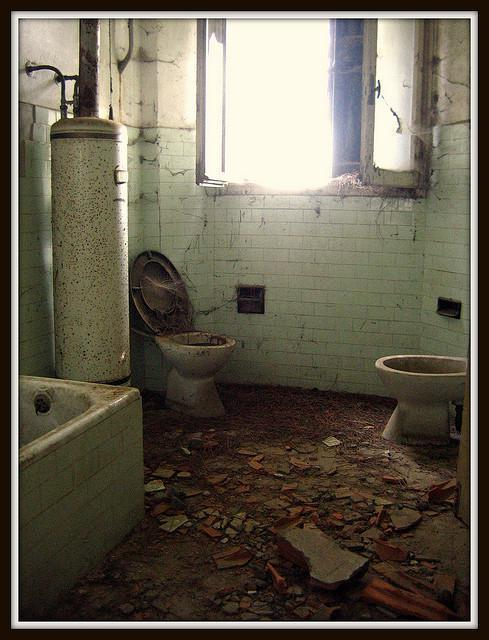Sanitario: (135, 255, 243, 419), (377, 316, 475, 449)
